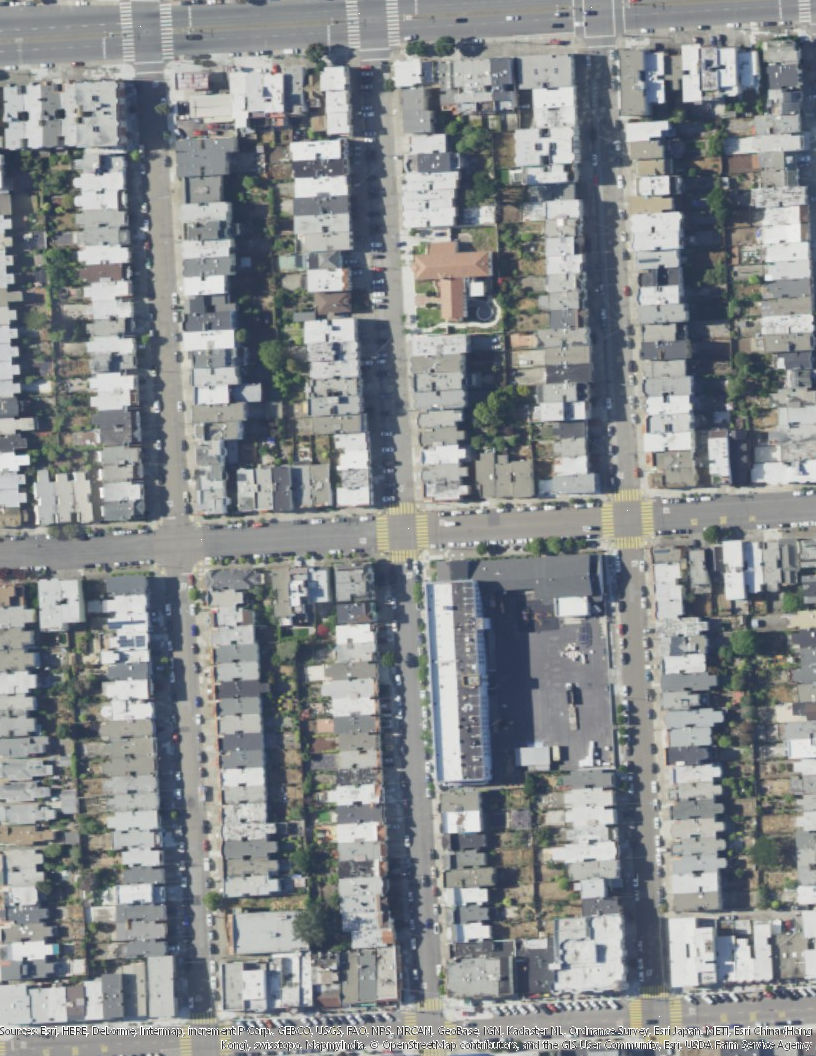zebracross: (118, 1, 138, 63), (156, 1, 177, 60), (342, 1, 365, 49), (382, 1, 403, 45), (384, 499, 418, 517), (640, 496, 656, 533), (375, 515, 390, 552), (415, 513, 430, 548), (640, 983, 668, 1000), (600, 501, 613, 537), (404, 1012, 416, 1049), (615, 535, 642, 551), (611, 488, 645, 500), (668, 997, 682, 1026), (191, 1011, 217, 1026), (629, 1000, 642, 1028), (390, 549, 417, 562), (417, 999, 441, 1013), (798, 2, 812, 24), (180, 1032, 193, 1055)
